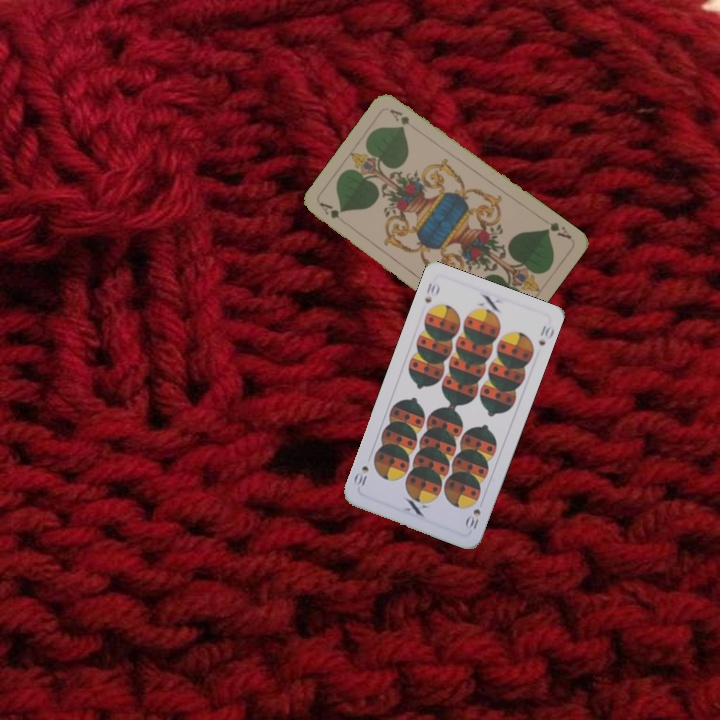GA: (316, 198, 351, 228), (541, 218, 574, 242)
S10: (461, 504, 483, 533), (420, 279, 442, 306)
